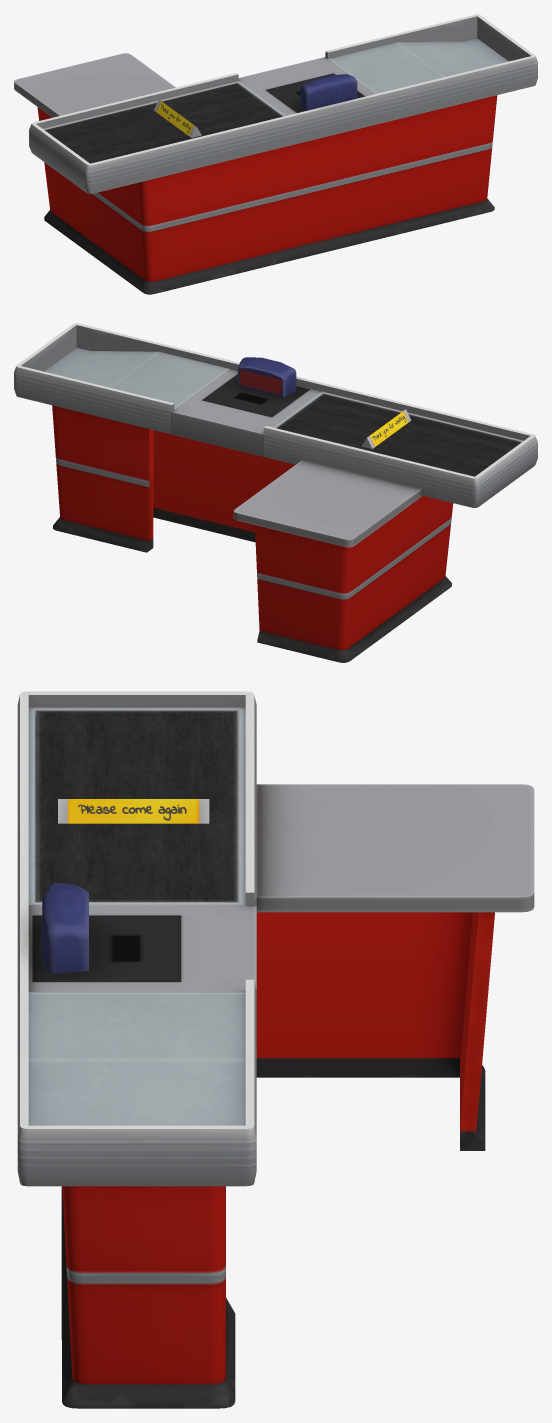
Rendered from CommCheckoutTable01.FBX.
3 renders of one model, top to bottom at view 1: azimuth 30°, elevation 25°; view 2: azimuth 150°, elevation 25°; view 3: azimuth 270°, elevation 25°, orthographic. The views are drawn at different scales.
Parts seen in each view (by area): view 1: CommCheckoutTable01; view 2: CommCheckoutTable01; view 3: CommCheckoutTable01.
Boxes of the visible parts, left/top/right/bottom form: CommCheckoutTable01: left=14, top=14, right=537, bottom=294; CommCheckoutTable01: left=14, top=323, right=537, bottom=662; CommCheckoutTable01: left=17, top=691, right=534, bottom=1408.
Size of what is drawn, in the model's own units: 3.2 by 1.17 by 1.59.
